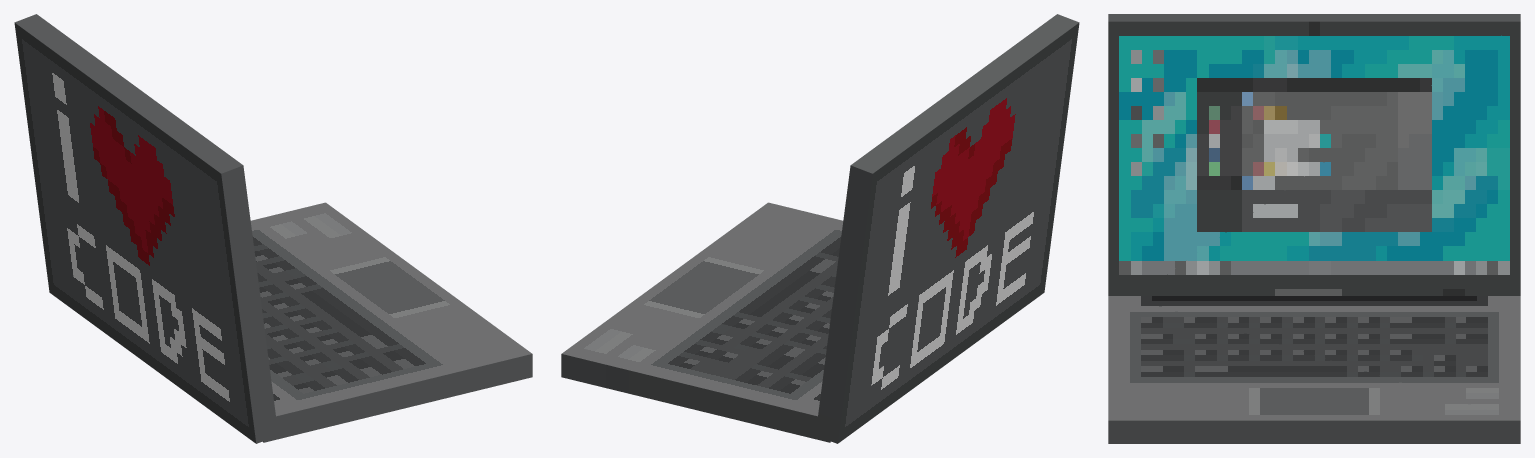
File: note.gltf
The picture shows the model from 3 angles, left to right: view 1: azimuth 30°, elevation 25°; view 2: azimuth 150°, elevation 25°; view 3: azimuth 270°, elevation 25°; orthographic projection.
Parts seen in each view (by area): view 1: cube (×2); view 2: cube (×2); view 3: cube (×2).
Boxes of the visible parts, x1,y1,x2,y2 form: cube (×2): (14, 14, 532, 443); cube (×2): (561, 14, 1079, 443); cube (×2): (1108, 14, 1520, 443).
Size of the model in its own units: 0.8691 by 0.7535 by 1.
Materials: 2 (2 with a texture image).
